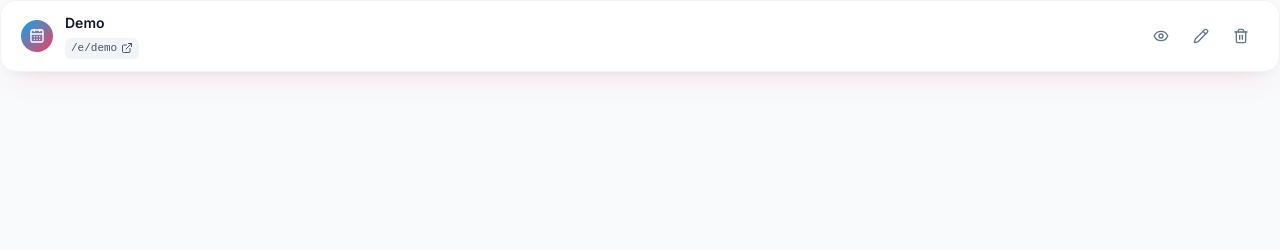
Test: <EventsList> › editar evento › edita nome e slug e atualiza a lista
Expected: the text "Demo" is shown, [65,14,104,31]
Click the button named "editar" at (1201, 36), box [1183,18,1219,54]
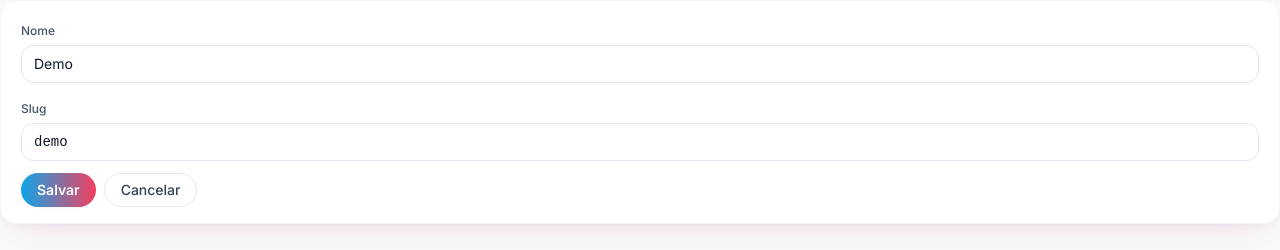
Replace the text in the field named "Nome do evento" with "Renomeado" at (640, 64), box [21,45,1259,83]
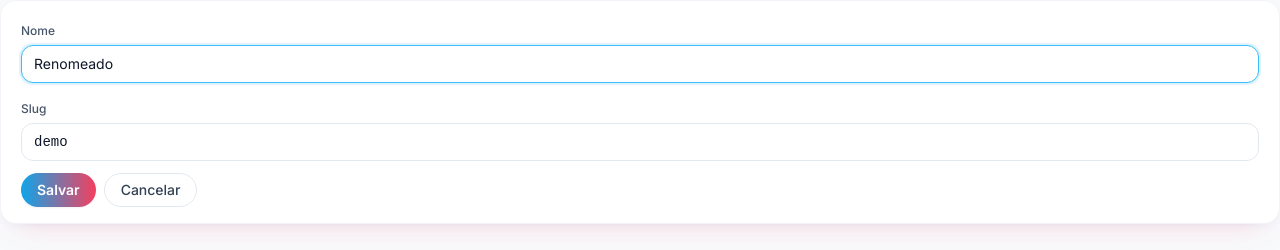
Replace the text in the field labelled "Slug" with "renomeado" at (640, 142), box [21,123,1259,161]
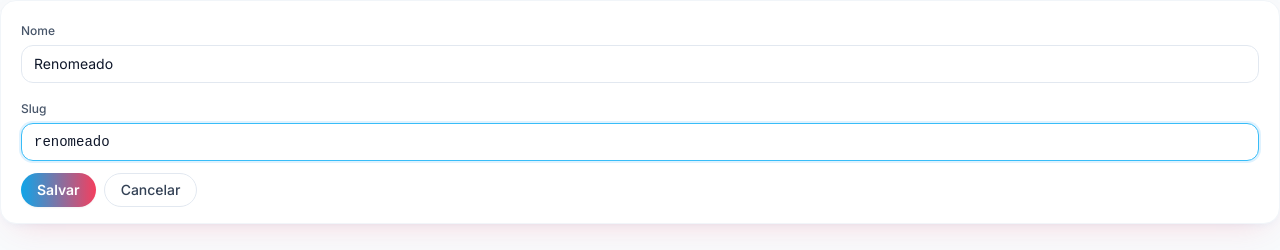
Click the button "Salvar" at (58, 190), box [21,173,96,207]
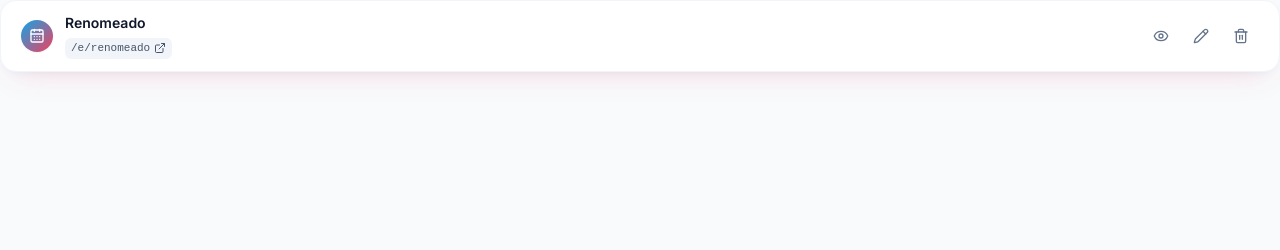
Expected: the text "Renomeado" is shown, [65,14,146,31]
Expected: the link "/e/renomeado" is shown, [65,38,172,58]
